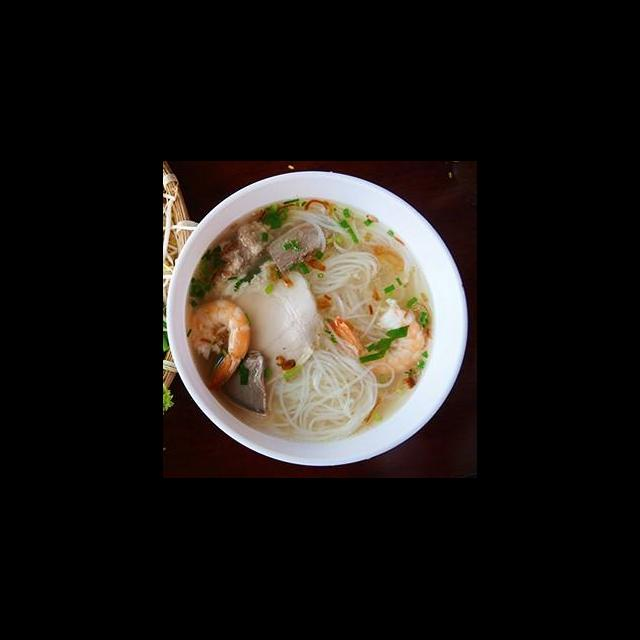banh hu tieu: (297, 198, 438, 344), (257, 339, 382, 446)
gan: (212, 346, 273, 420)
hu tieu: (168, 192, 471, 467)
thit heo: (206, 258, 327, 382)
tom: (320, 294, 433, 384), (185, 296, 255, 394)
